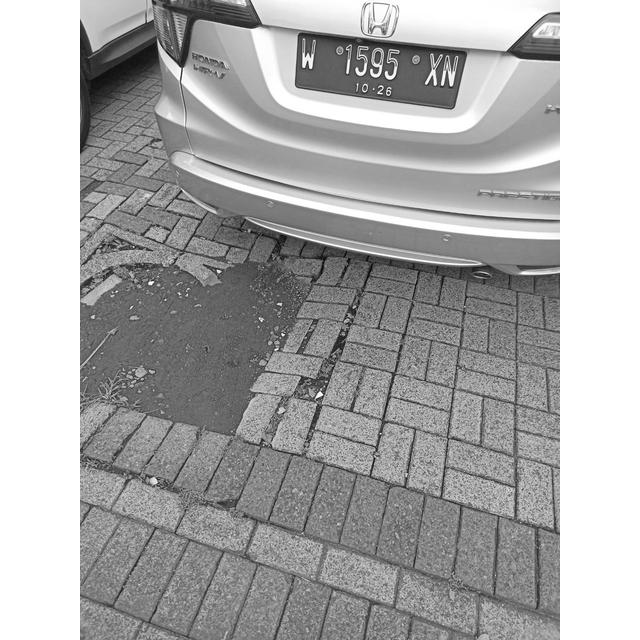license: (299, 37, 461, 104)
